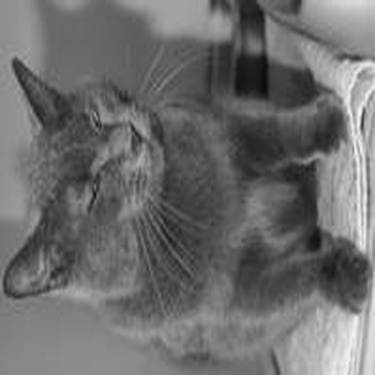cat: (2, 54, 371, 360)
